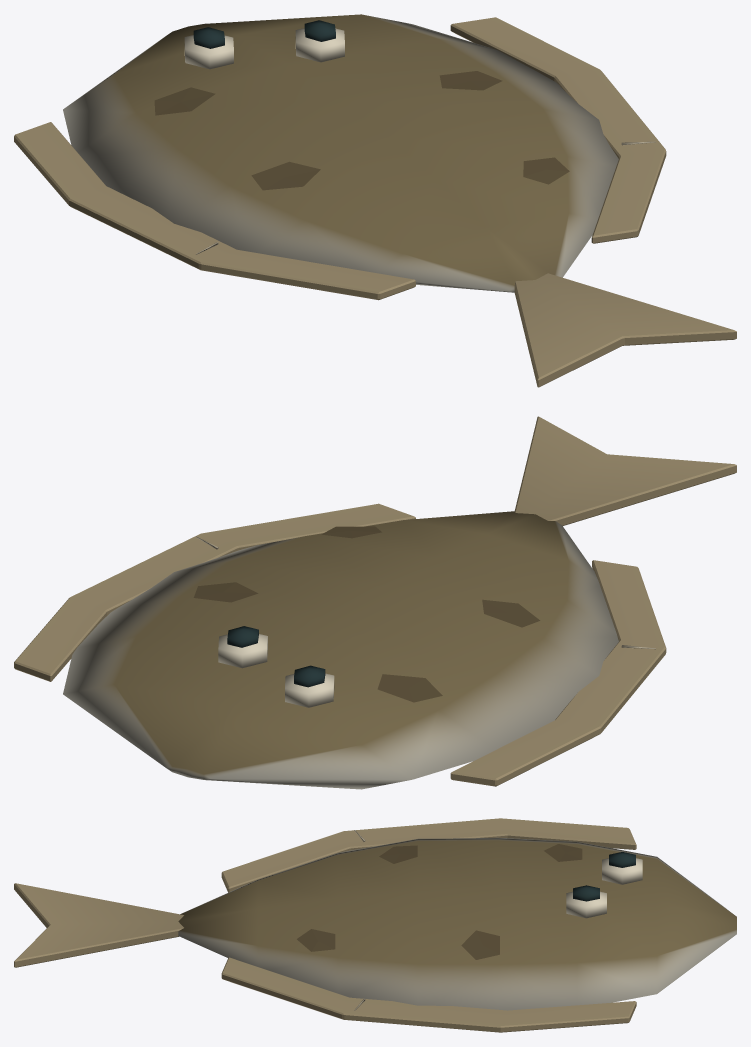
Rendered from fish_flatfish_low.glb.
3 views of the same model, one above another, from view 1: azimuth 30°, elevation 25°; view 2: azimuth 150°, elevation 25°; view 3: azimuth 270°, elevation 25° (orthographic). The views are drawn at different scales.
Bounding box in the file's own units: 0.2596 × 0.0494 × 0.3798.
